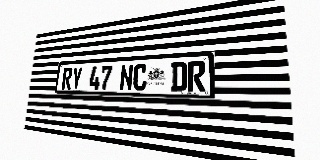4: (88, 66, 101, 90)
7: (99, 65, 113, 90)
C: (133, 63, 147, 91)
D: (171, 61, 187, 91)
N: (119, 64, 133, 90)
R: (188, 60, 205, 92), (62, 67, 73, 89)
Y: (71, 67, 83, 89)
